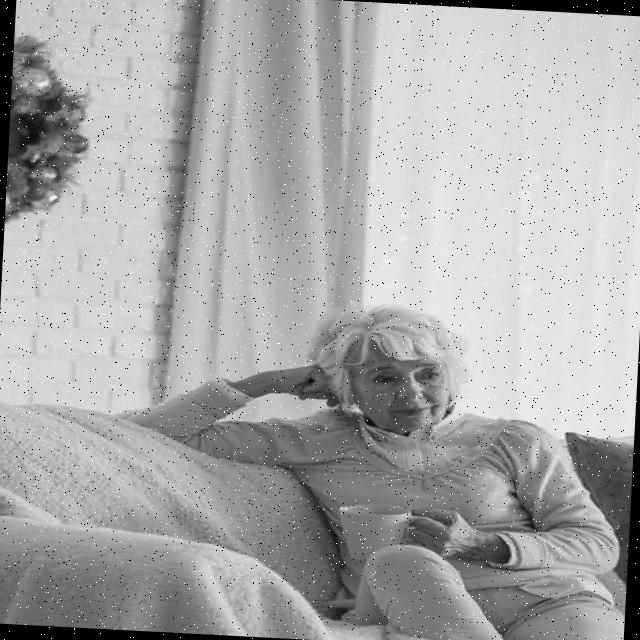Sadness: (356, 342, 452, 431)
